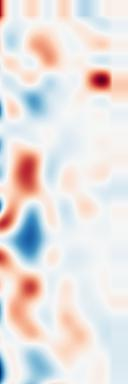filament: (8, 147, 48, 206)
